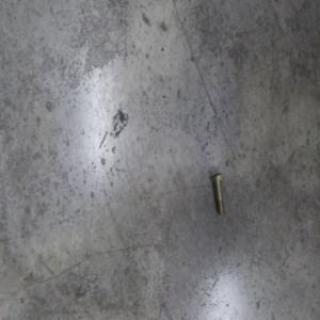Bolttrack_idkeyframe: (210, 170, 224, 215)
